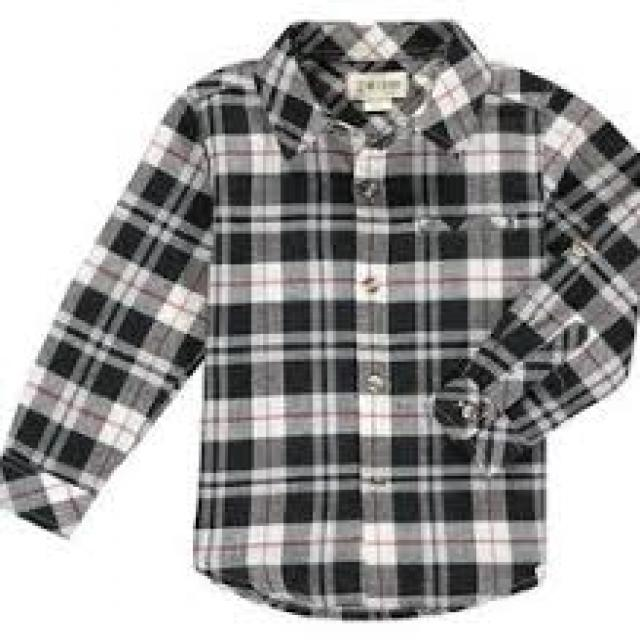plaid: (20, 19, 640, 615)
